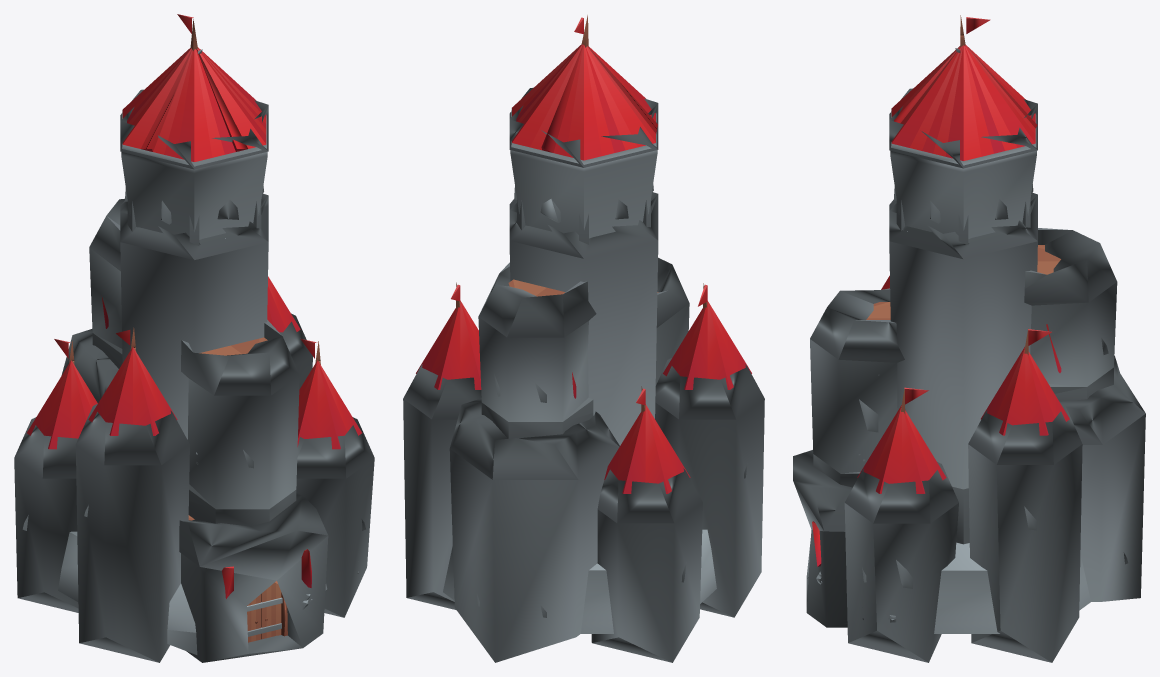
Rendered from tower_red-small.glb.
The picture shows the model from 3 angles, left to right: view 1: azimuth 30°, elevation 25°; view 2: azimuth 150°, elevation 25°; view 3: azimuth 270°, elevation 25°; orthographic projection.
Visible parts, largest first — view 1: building_castle_red; view 2: building_castle_red; view 3: building_castle_red.
Boxes of the visible parts, left/top/right/bottom form: building_castle_red: left=14, top=14, right=374, bottom=662; building_castle_red: left=403, top=15, right=764, bottom=662; building_castle_red: left=793, top=15, right=1145, bottom=662.
Size of the model in its own units: 1.94 by 3.98 by 2.18.
1 material, 1 textured.
